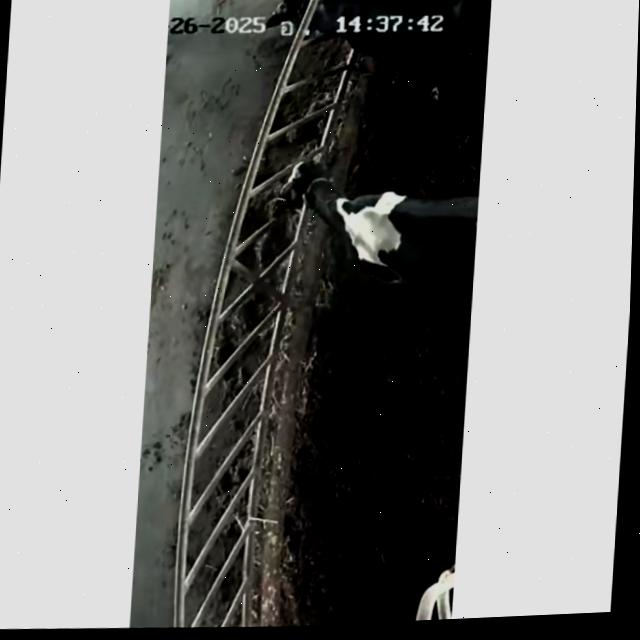eat: (211, 123, 364, 245), (240, 0, 383, 67)
